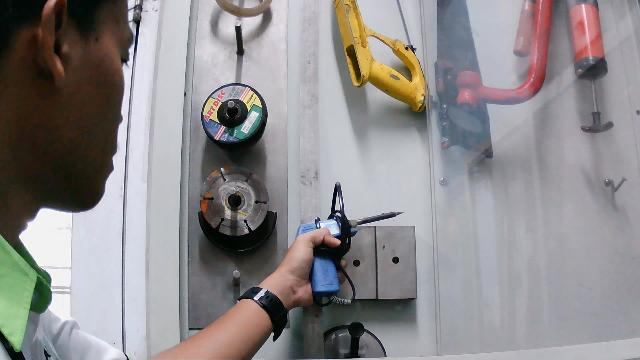solder_electrical: (292, 177, 406, 306)
